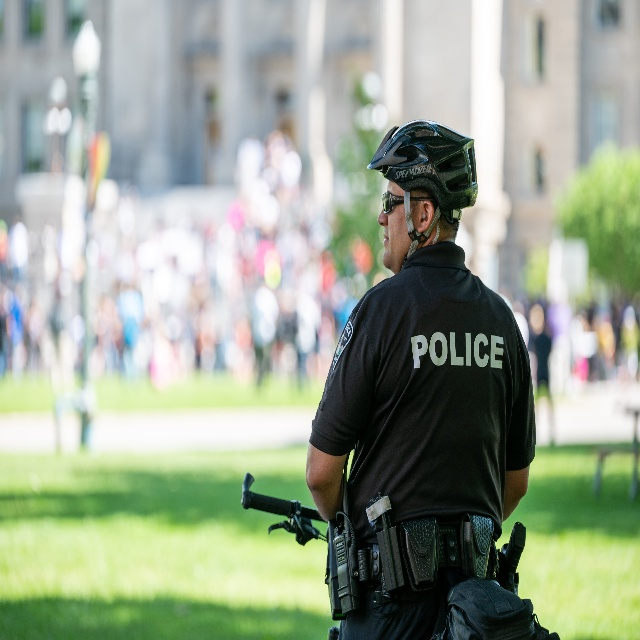Gafas: (379, 187, 434, 220)
